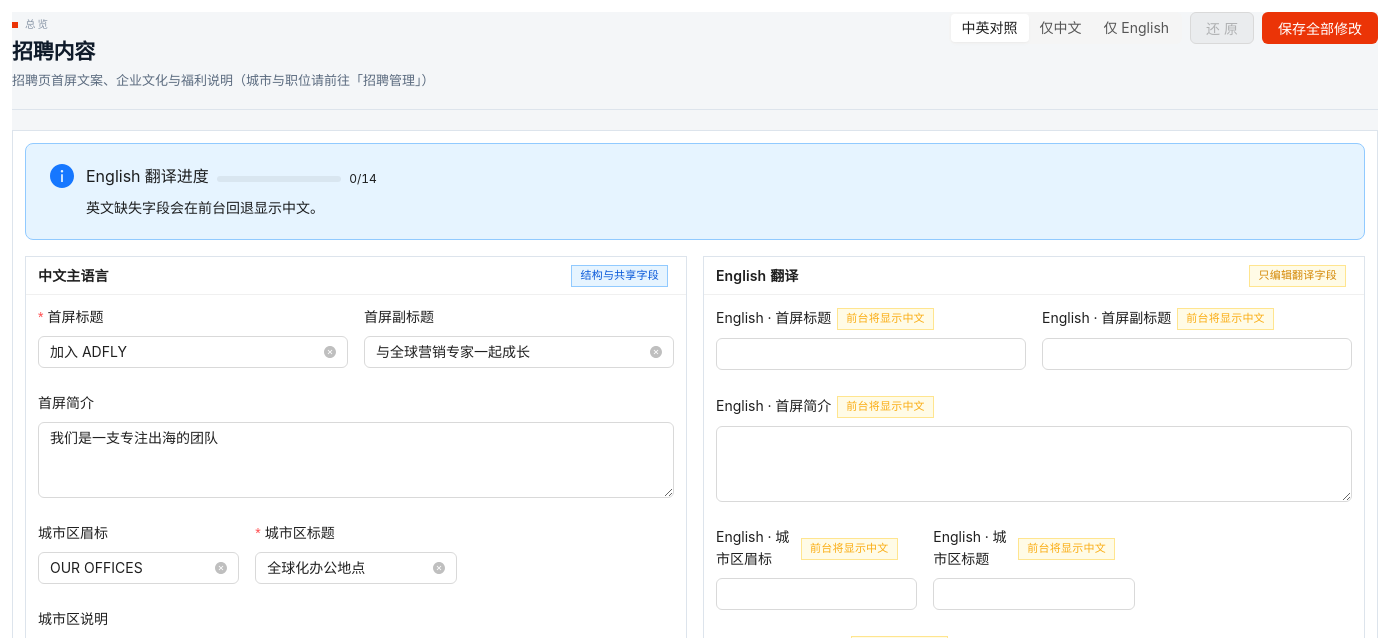
Test case: 招聘内容页 › P5 改动后出现未保存提示，保存成功后消失
The width and height of the screenshot is (1390, 638).
Replace the text in the field labelled "首屏标题" with "！" at coordinates (185, 352), box top-left (50, 341), bottom-right (320, 363)
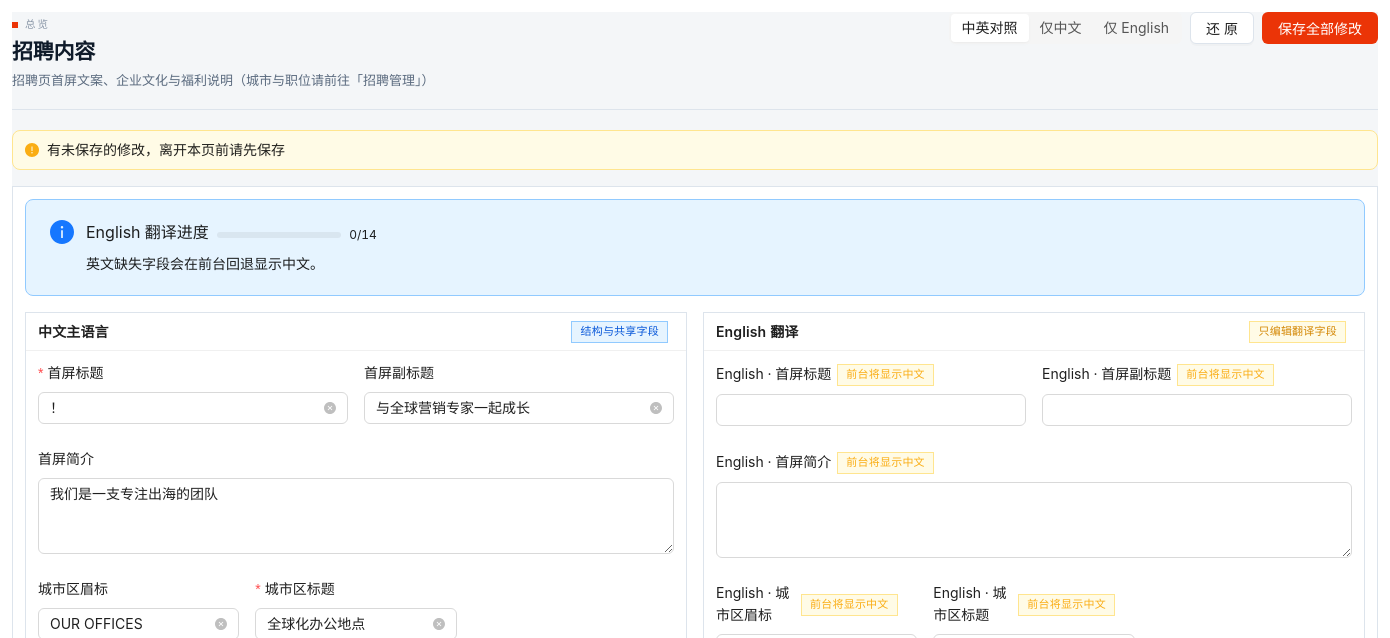
Expected: the message "有未保存的修改，离开本页前请先保存" is shown, top-left (12, 130), bottom-right (1378, 170)
Click the button with test id "content-save" at coordinates (1320, 28), box top-left (1262, 12), bottom-right (1378, 44)
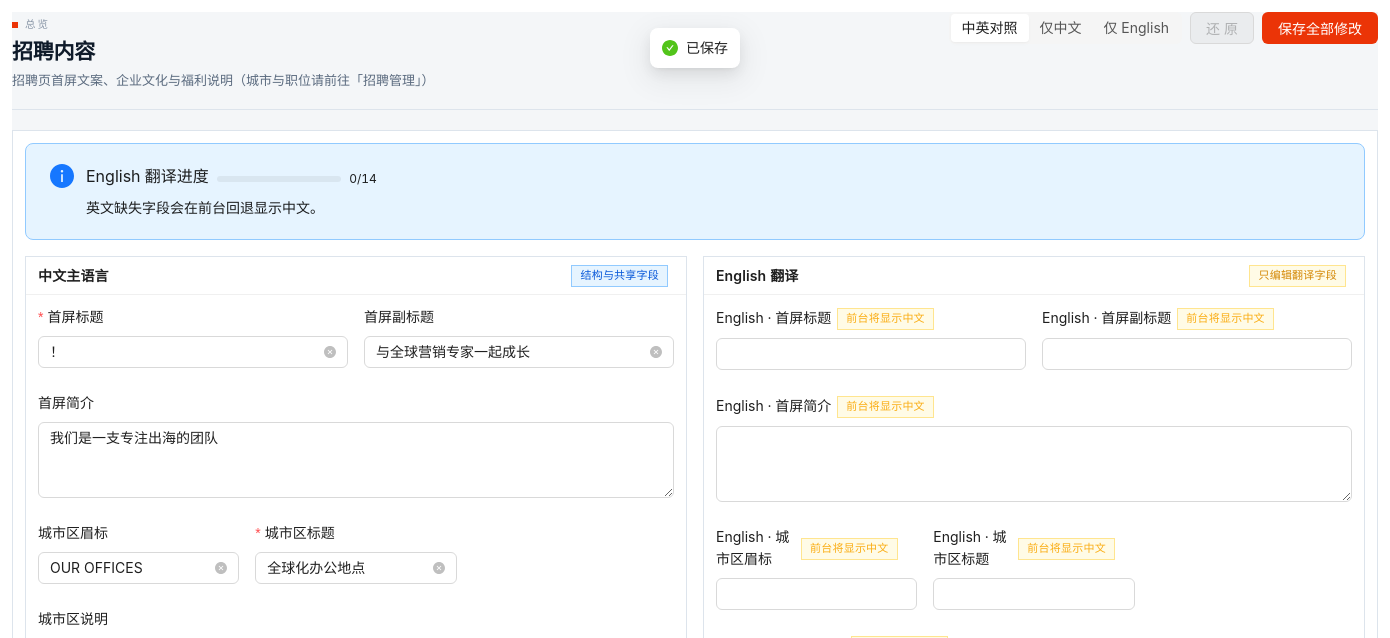
Expected: the message with test id "content-dirty-tip" is gone
